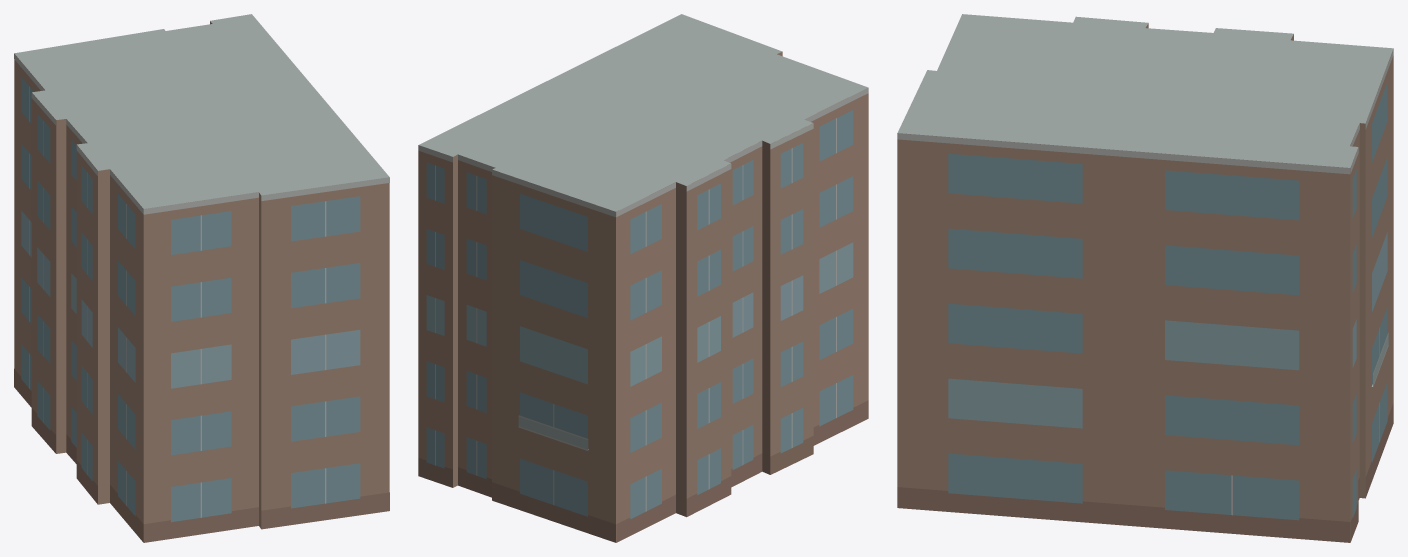
Rendered from survey-upis-32654089.glb.
The picture shows the model from 3 angles, left to right: view 1: azimuth 30°, elevation 25°; view 2: azimuth 150°, elevation 25°; view 3: azimuth 270°, elevation 25°; orthographic projection. The views are drawn at different scales.
Parts seen in each view (by area): view 1: survey-upis-32654089.tmp; view 2: survey-upis-32654089.tmp; view 3: survey-upis-32654089.tmp.
Boxes of the visible parts, x1,y1,x2,y2 form: survey-upis-32654089.tmp: [14, 14, 389, 542]; survey-upis-32654089.tmp: [418, 14, 868, 542]; survey-upis-32654089.tmp: [897, 14, 1393, 542].
Bounding box in the file's own units: 12.69 × 14.4 × 17.28.
